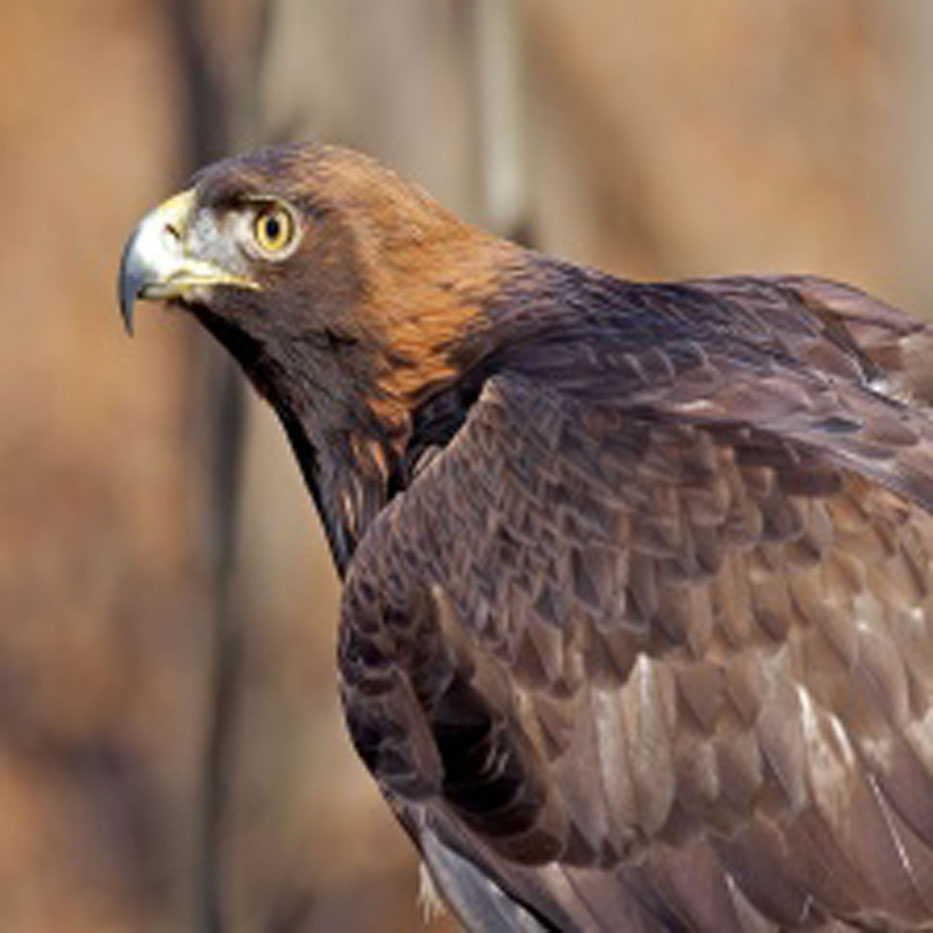Pengoyak Daging: (87, 173, 191, 355)
